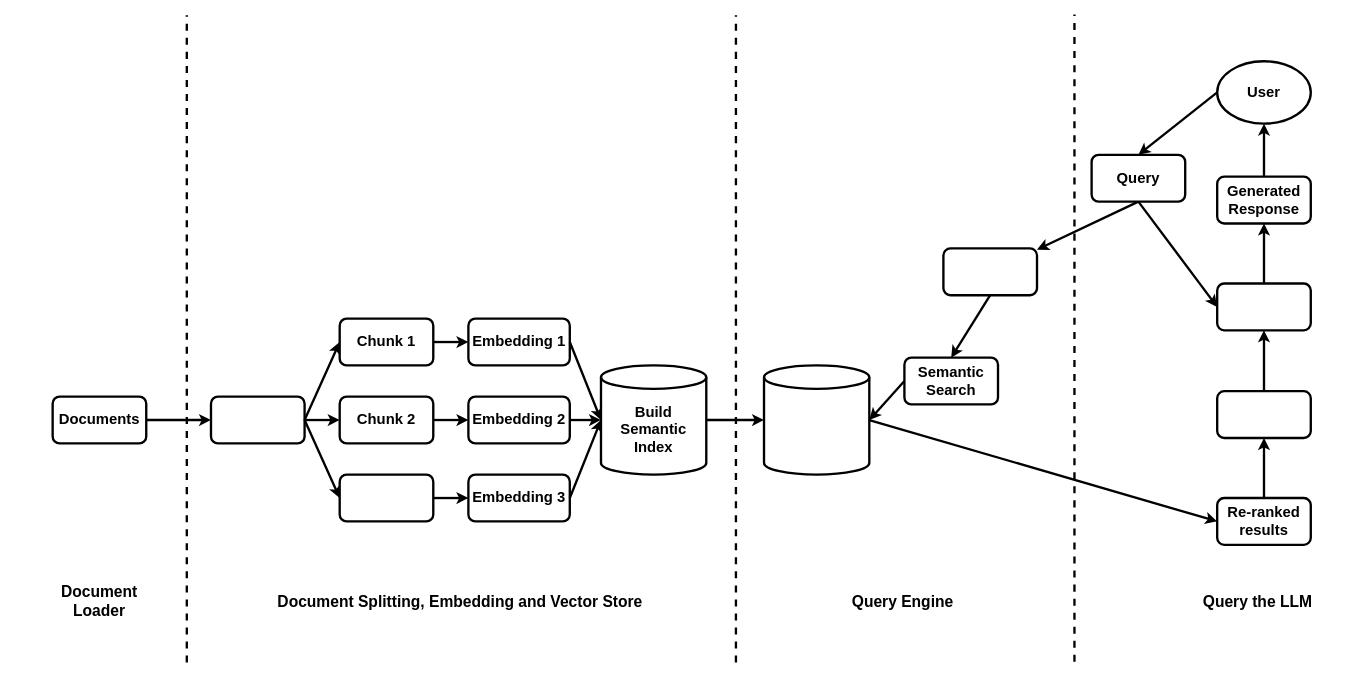
This 1356x678 diagram has some shape labels left out. Each missing label, with the centre of its shape:
"Chunk 3" goes at pixel 386 497.
"Compute Embeddings" goes at pixel 990 271.
"Context" goes at pixel 1264 414.
"Knowledge Base" goes at pixel 816 419.
"LLM" goes at pixel 1264 306.
"Splitting" goes at pixel 257 419.
